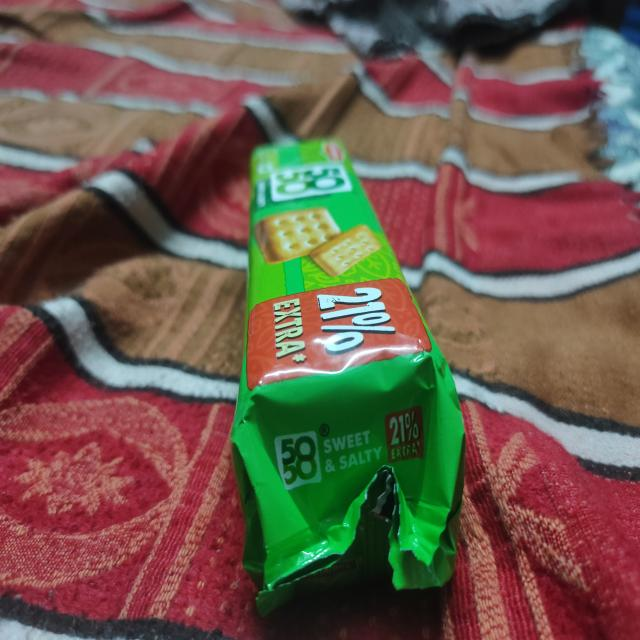50 50 biscuit: (238, 113, 466, 640)
